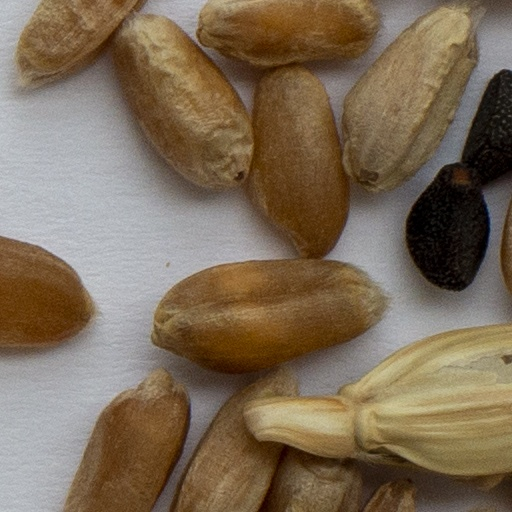Peel-poly: (239, 325, 511, 478)
